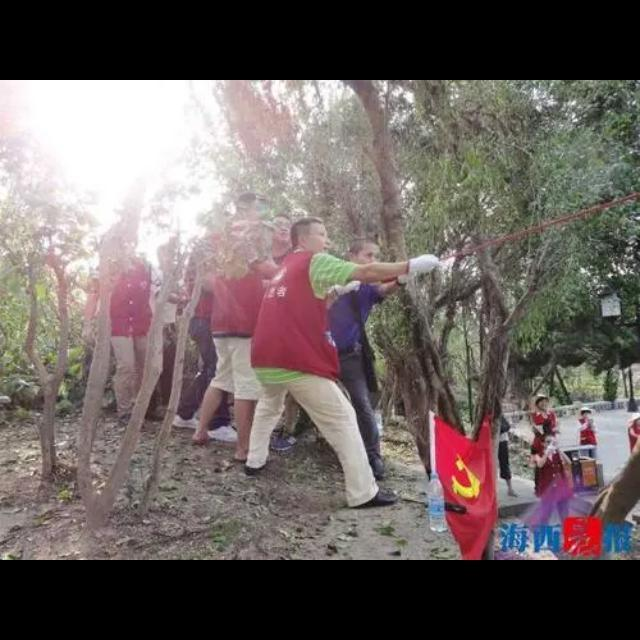fallen_tree: (586, 427, 640, 529)
